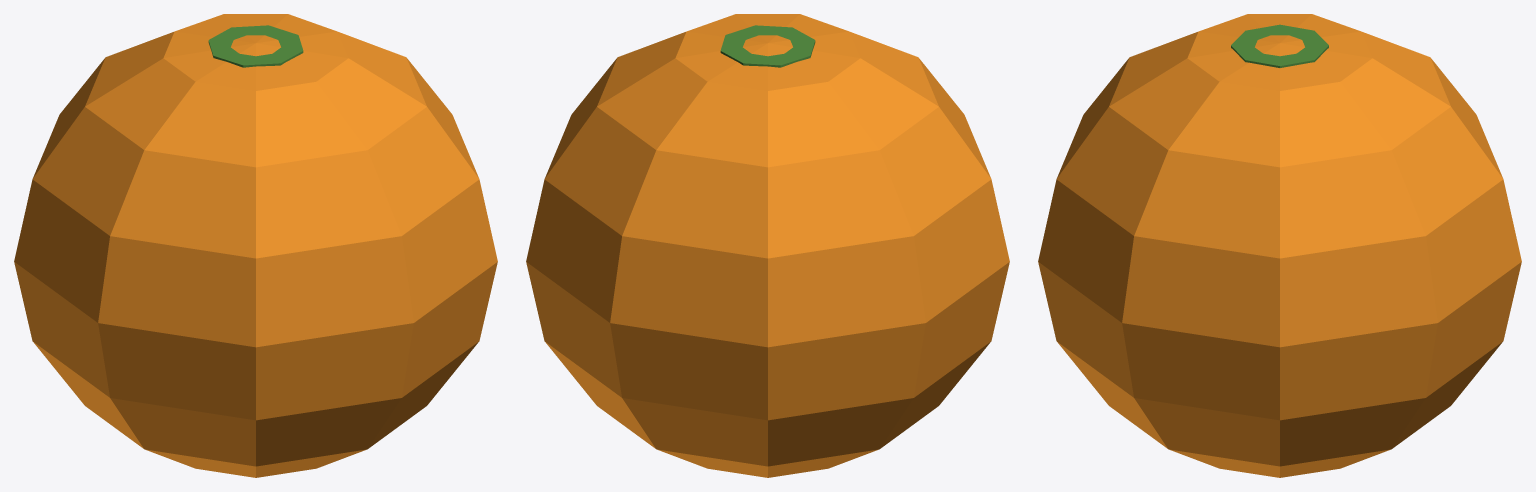
The model's file is Food_Orange.obj.
The picture shows the model from 3 angles, left to right: view 1: azimuth 30°, elevation 25°; view 2: azimuth 150°, elevation 25°; view 3: azimuth 270°, elevation 25°; orthographic projection.
Size of the model in its own units: 1.94 by 1.82 by 1.97.
